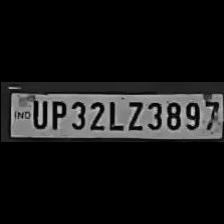2: (86, 98, 104, 132)
3: (66, 97, 86, 130), (144, 98, 162, 130)
7: (201, 98, 221, 130)
8: (162, 99, 182, 130)
9: (182, 98, 200, 130)
L: (104, 98, 124, 132)
P: (46, 97, 66, 130)
U: (28, 97, 46, 129)
Z: (122, 98, 144, 132)
